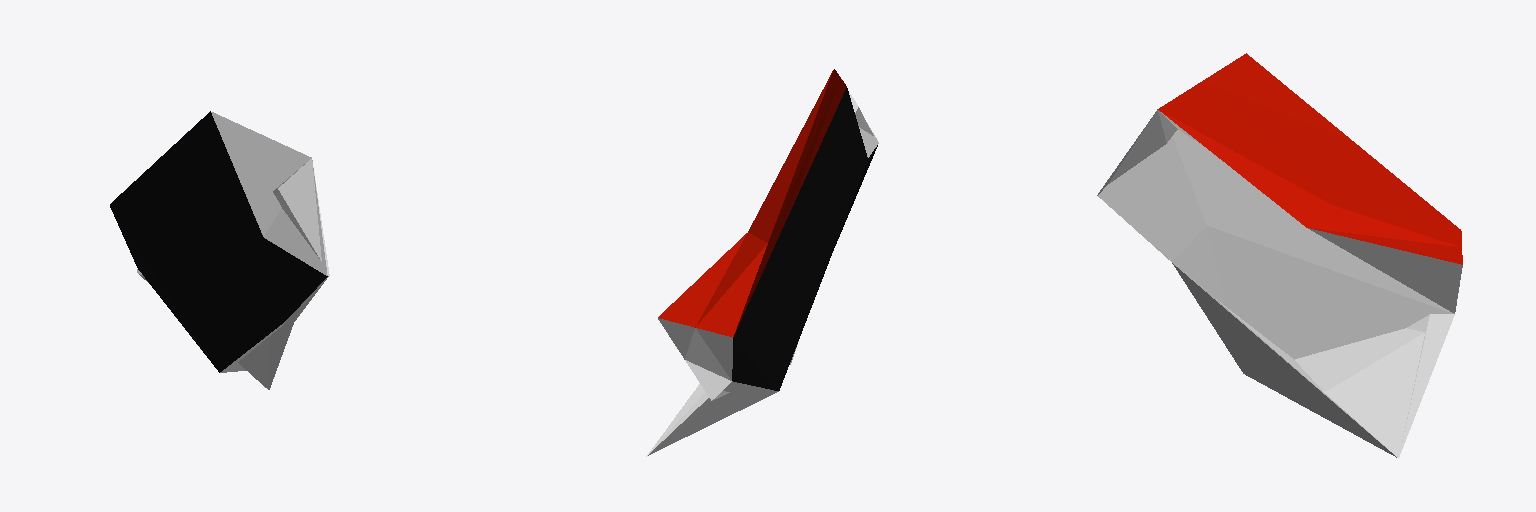
File: debris2.obj
3 renders of one model, left to right at view 1: azimuth 30°, elevation 25°; view 2: azimuth 150°, elevation 25°; view 3: azimuth 270°, elevation 25°, orthographic.
Parts seen in each view (by area): view 1: Cube; view 2: Cube; view 3: Cube.
Part boxes in pixels (x1,y1,x2,y2): Cube: (110,111,329,389); Cube: (646,69,878,456); Cube: (1097,53,1462,458).
Bounding box in the file's own units: 0.0265 × 0.0701 × 0.0674.